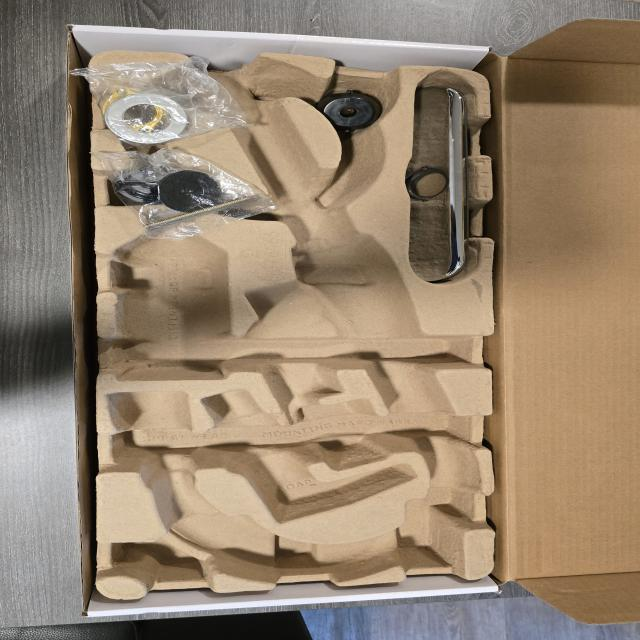1m: (108, 54, 478, 584)
2m: (200, 389, 413, 519)
3m: (113, 207, 226, 380)
4: (405, 86, 469, 283)
5: (316, 93, 380, 132)
6: (69, 51, 255, 147)
7: (95, 147, 276, 241)
